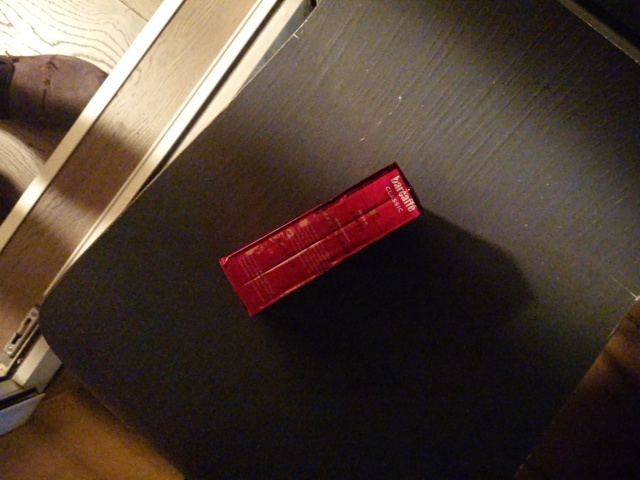Barcaffe Classic Original 225g: (212, 160, 427, 319)
